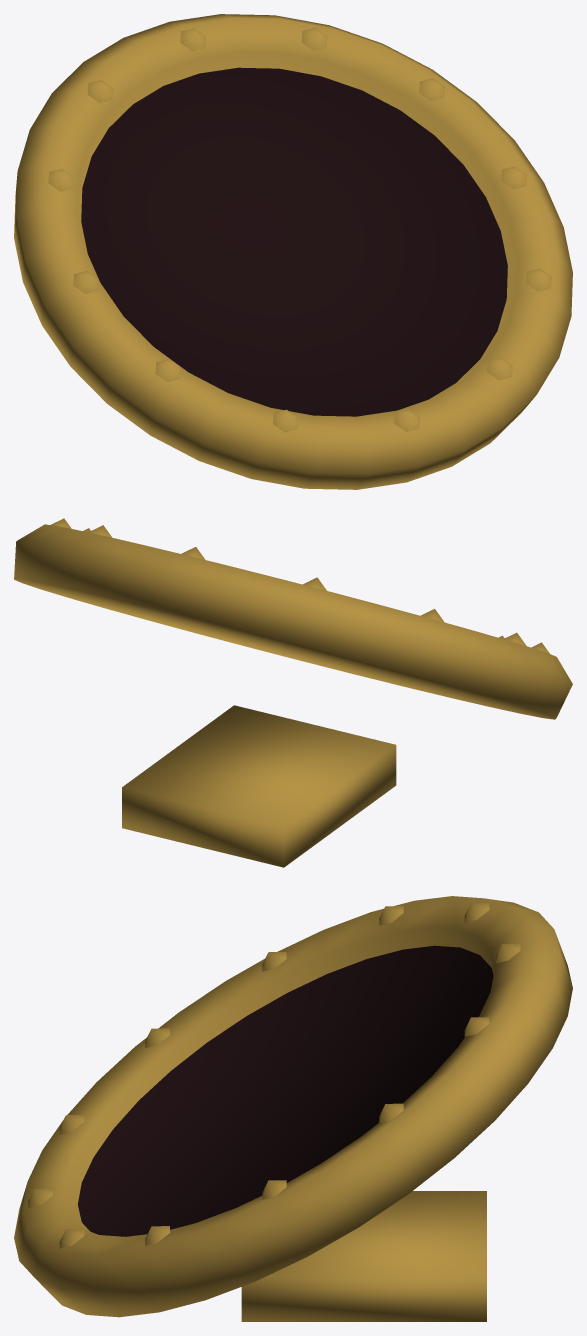
Rendered from total_dial.glb.
3 renders of one model, top to bottom at view 1: azimuth 30°, elevation 25°; view 2: azimuth 150°, elevation 25°; view 3: azimuth 270°, elevation 25°, orthographic. The views are drawn at different scales.
Visible parts, largest first — view 1: total_dial; view 2: total_dial; view 3: total_dial.
Part boxes in pixels (x1,y1,x2,y2): total_dial: (14,14,572,489); total_dial: (14,518,572,867); total_dial: (14,896,572,1321).
Size of the model in its own units: 0.154 by 0.0903 by 0.1366.
